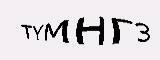Г: (109, 18, 133, 45)
З: (134, 21, 152, 44)
М: (43, 18, 70, 45)
Н: (76, 15, 104, 47)
Т: (20, 24, 33, 40)
Ү: (31, 23, 45, 41)
